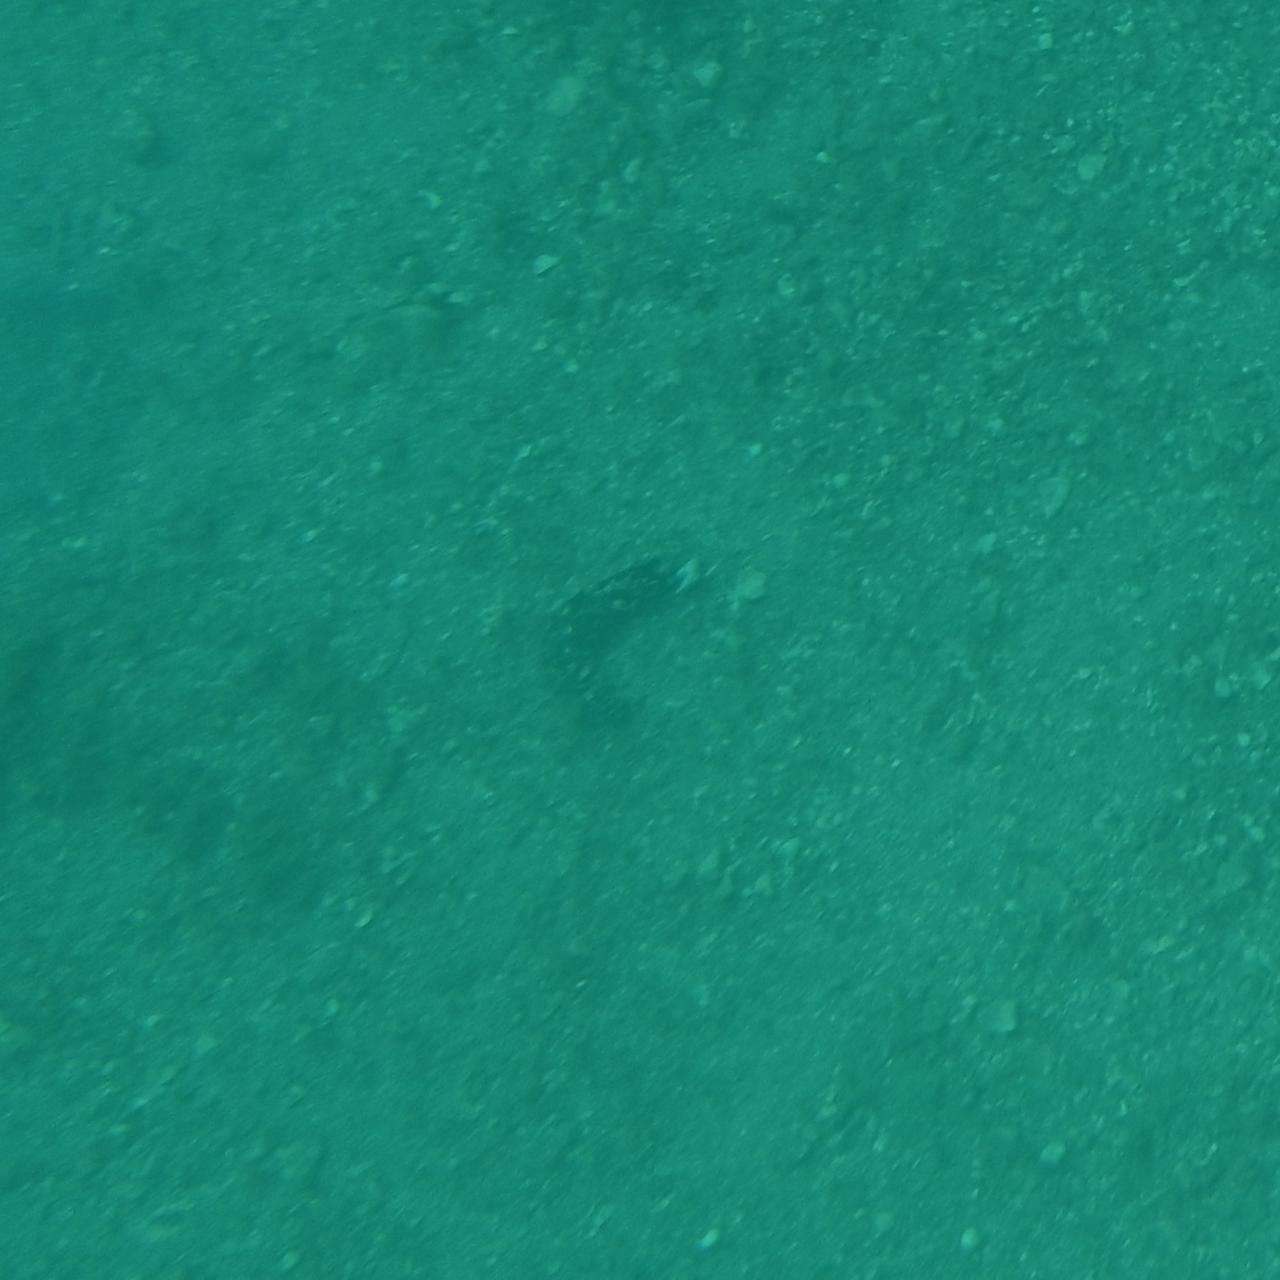Holothuria tubulosa: (536, 528, 744, 752)
